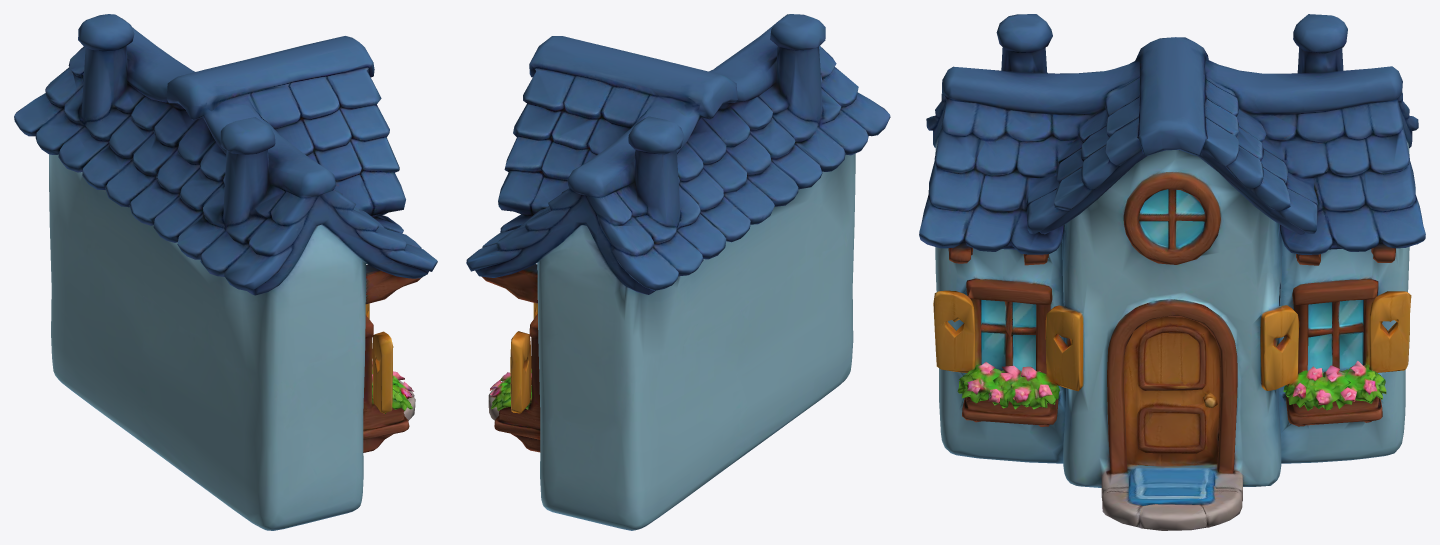
Rendered from cottage_blue.glb.
The picture shows the model from 3 angles, left to right: view 1: azimuth 30°, elevation 25°; view 2: azimuth 150°, elevation 25°; view 3: azimuth 270°, elevation 25°; orthographic projection. The views are drawn at different scales.
Visible parts, largest first — view 1: tripo_node_0ea6519a-3520-48a0-a17c-37a103f56ebc; view 2: tripo_node_0ea6519a-3520-48a0-a17c-37a103f56ebc; view 3: tripo_node_0ea6519a-3520-48a0-a17c-37a103f56ebc.
Part boxes in pixels (<box>): tripo_node_0ea6519a-3520-48a0-a17c-37a103f56ebc: <box>14,14,437,530</box>; tripo_node_0ea6519a-3520-48a0-a17c-37a103f56ebc: <box>466,14,890,530</box>; tripo_node_0ea6519a-3520-48a0-a17c-37a103f56ebc: <box>919,14,1425,530</box>.
Size of the model in its own units: 0.3881 by 0.4999 by 0.5782.
Materials: 1 (1 with a texture image).
